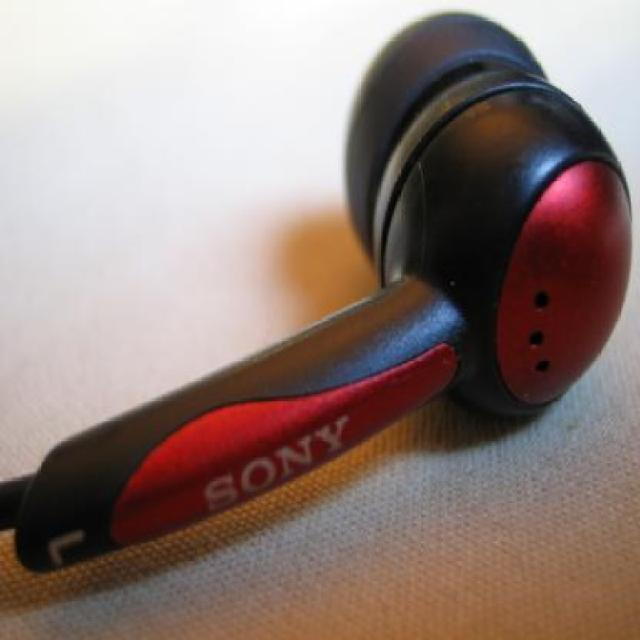earphone: (10, 16, 637, 566)
